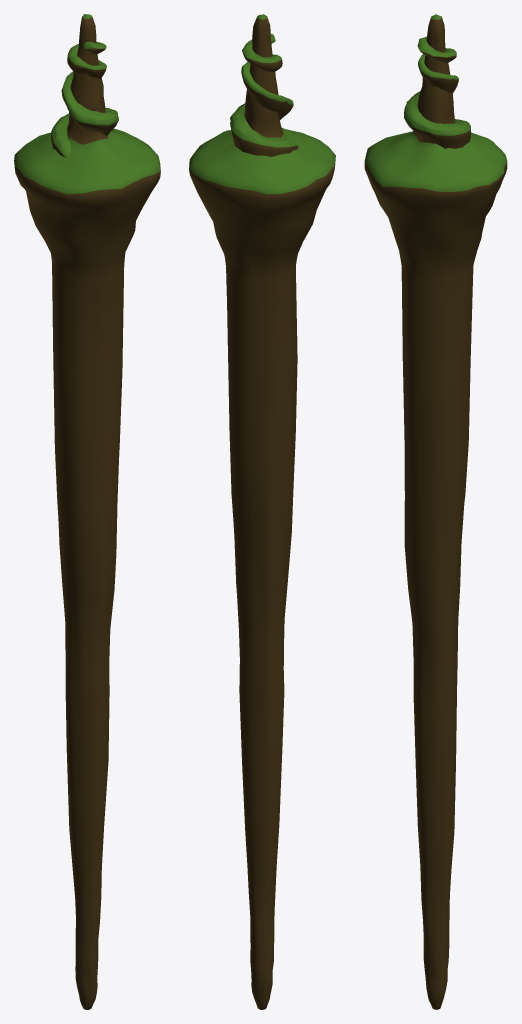
The model's file is LakeSpire.fbx.
The picture shows the model from 3 angles, left to right: view 1: azimuth 30°, elevation 25°; view 2: azimuth 150°, elevation 25°; view 3: azimuth 270°, elevation 25°; orthographic projection.
Parts seen in each view (by area): view 1: Spire; view 2: Spire; view 3: Spire.
Boxes of the visible parts, x1,y1,x2,y2 form: Spire: (14, 14, 160, 1009); Spire: (189, 14, 335, 1009); Spire: (364, 14, 507, 1009).
Bounding box in the file's own units: 15.13 × 115 × 14.95.
